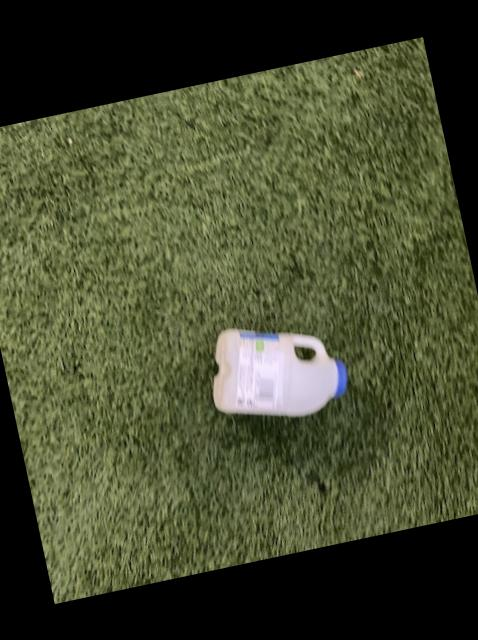plastic: (214, 328, 347, 415)
